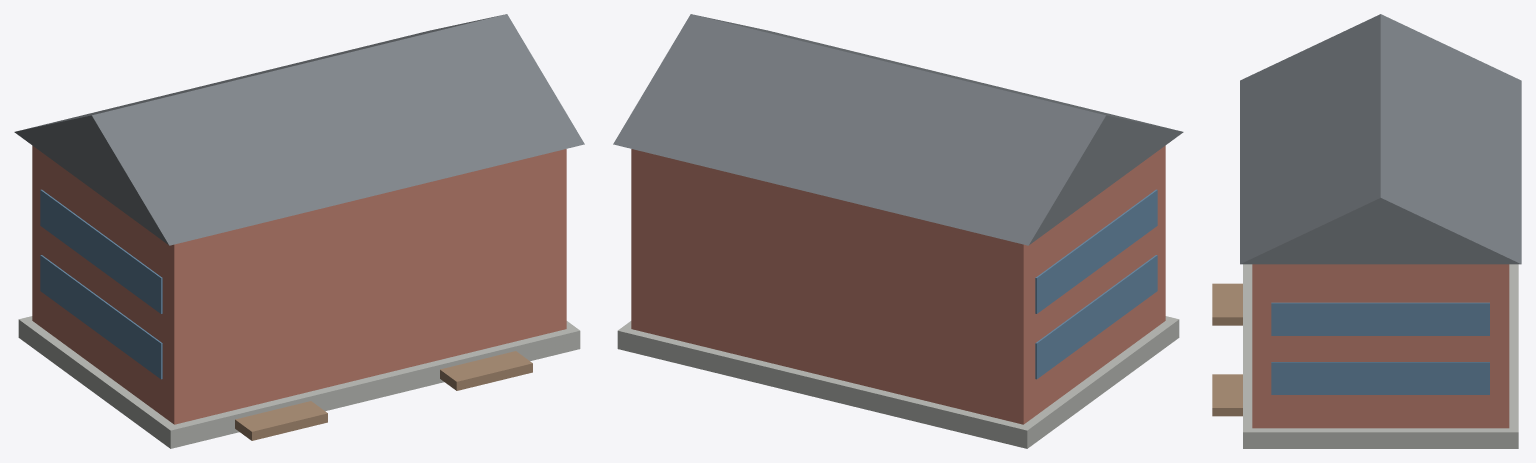
File: duplex_residential.glb
3 views of the same model, side by side, from view 1: azimuth 30°, elevation 25°; view 2: azimuth 150°, elevation 25°; view 3: azimuth 270°, elevation 25° (orthographic). The views are drawn at different scales.
Visible parts, largest first — view 1: duplex_residential; view 2: duplex_residential; view 3: duplex_residential.
Part boxes in pixels (box(x1,y1,x2,y2)): duplex_residential: box(14, 14, 584, 448); duplex_residential: box(613, 14, 1183, 448); duplex_residential: box(1212, 14, 1521, 448).
Bounding box in the file's own units: 14.2 × 9.1 × 10.1.
